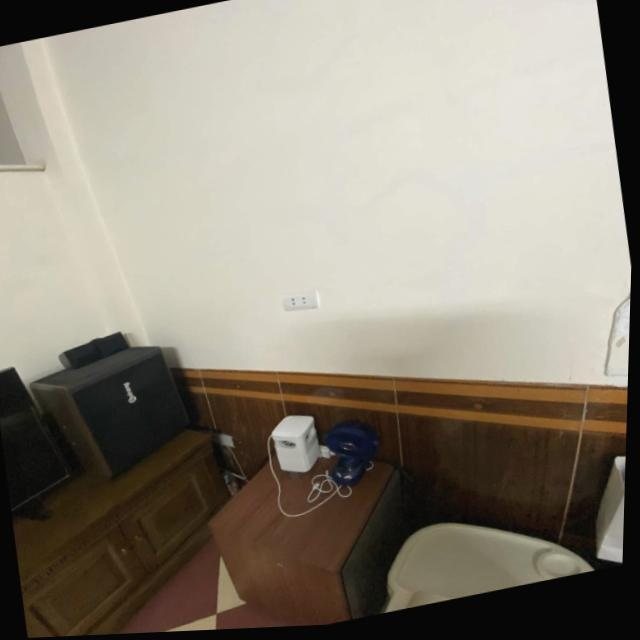outlet: (280, 287, 320, 315)
